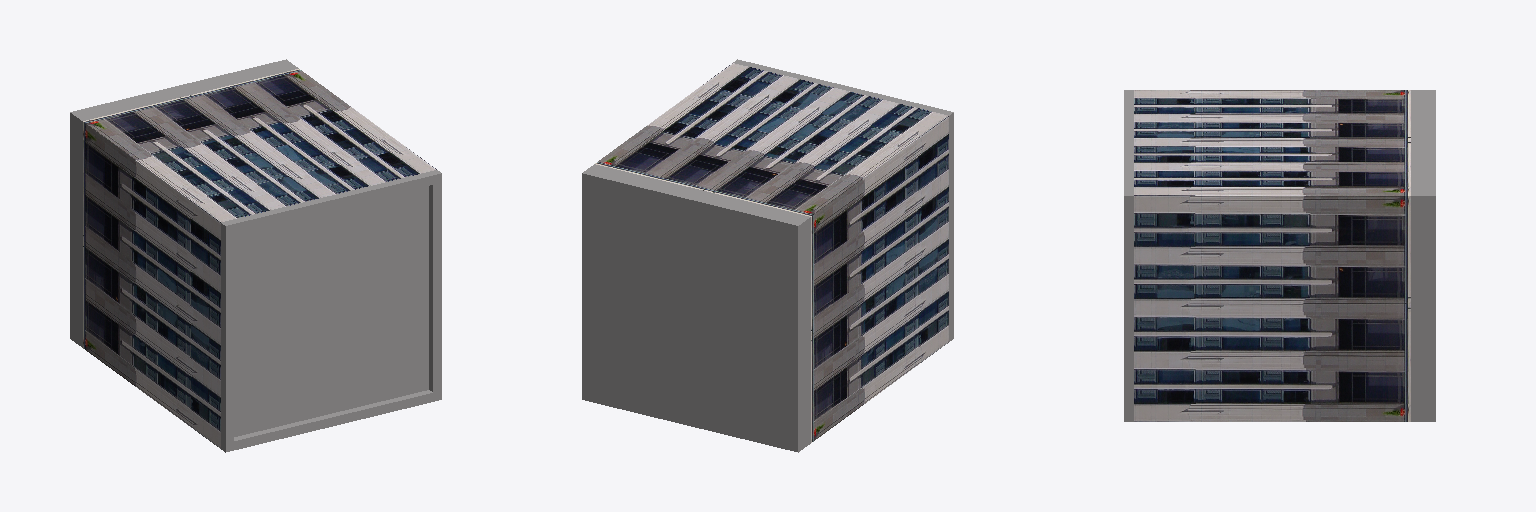
The picture shows the model from 3 angles: view 1: azimuth 30°, elevation 25°; view 2: azimuth 150°, elevation 25°; view 3: azimuth 270°, elevation 25°; orthographic projection.
Parts seen in each view (by area): view 1: object_2, object_1, object_3; view 2: object_2, object_3, object_1; view 3: object_2, object_3, object_1.
Boxes of the visible parts, x1=… form: object_2: x1=83, y1=69, x2=436, y2=448; object_1: x1=221, y1=170, x2=441, y2=452; object_3: x1=70, y1=59, x2=298, y2=347; object_2: x1=595, y1=63, x2=948, y2=442; object_3: x1=582, y1=164, x2=810, y2=452; object_1: x1=733, y1=59, x2=953, y2=341; object_2: x1=1134, y1=90, x2=1410, y2=421; object_3: x1=1411, y1=90, x2=1435, y2=421; object_1: x1=1124, y1=90, x2=1133, y2=421.
Size of the model in its own units: 3.19 by 3.19 by 3.98.
Materials: 2 (1 with a texture image).